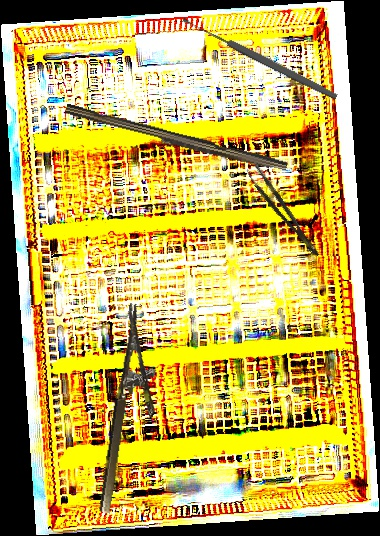Needle Holder: (96, 303, 171, 518)
Scalpel Handle: (63, 103, 289, 176)
Surgical Spoon: (181, 14, 339, 102)
Tissue Forceps: (244, 162, 321, 263)
